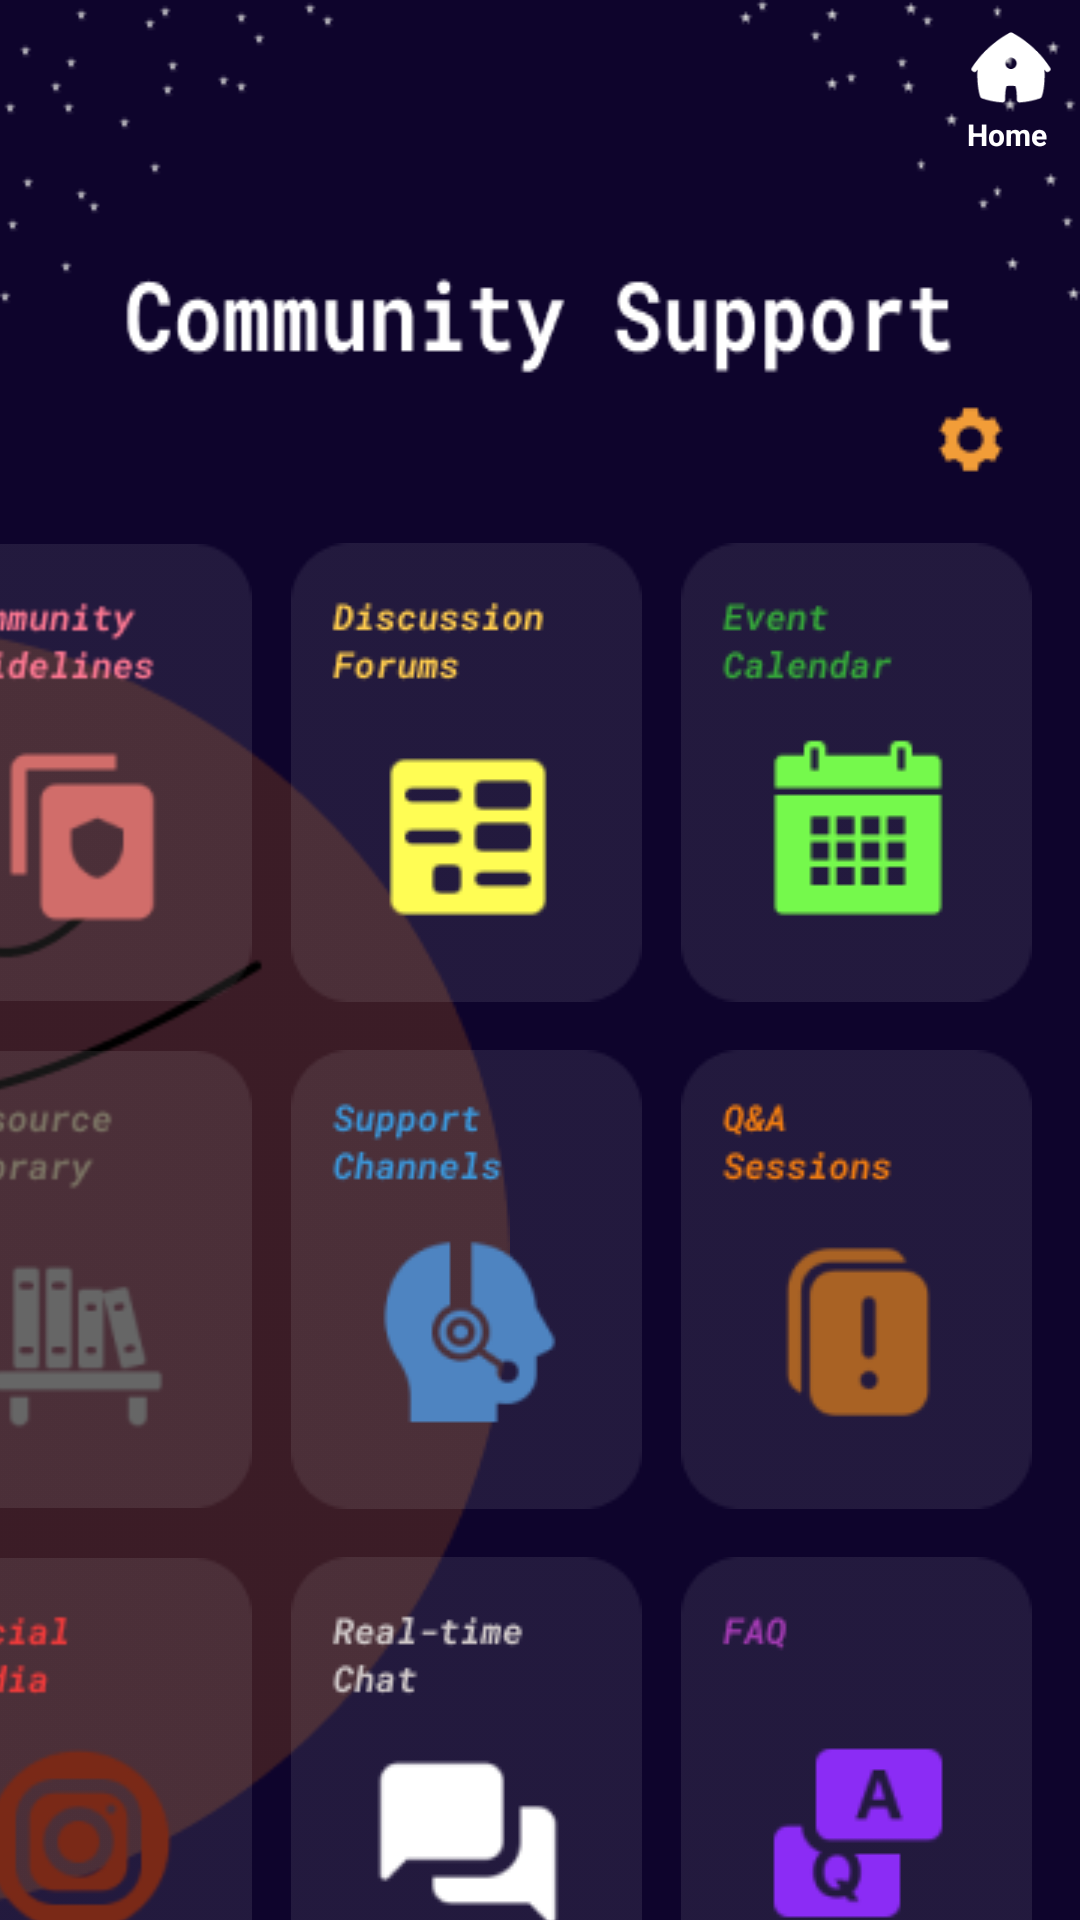

Icon bounding boxes for this 1080 x 1920 phone screenshot, format box(x1, y1, x2, y2):
settings: box(938, 407, 1003, 472)
